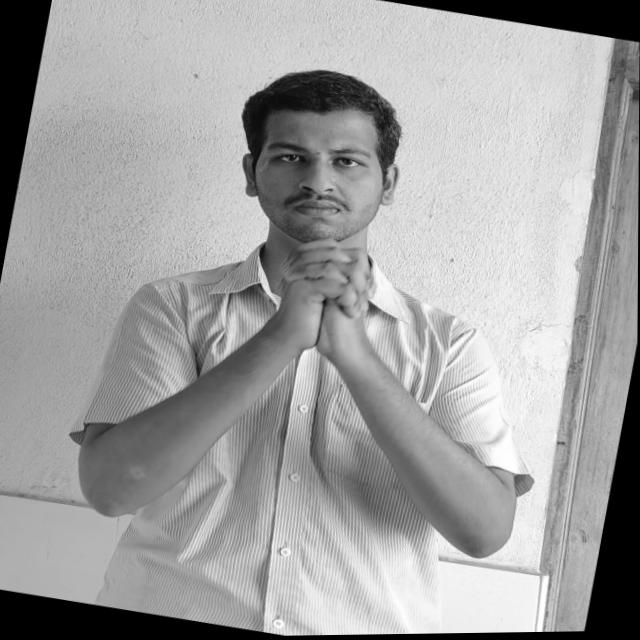Sorry: (257, 234, 393, 357)
